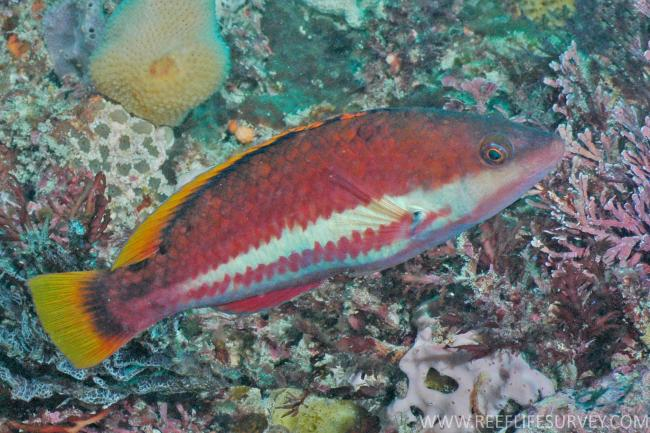fish: (24, 105, 566, 370)
